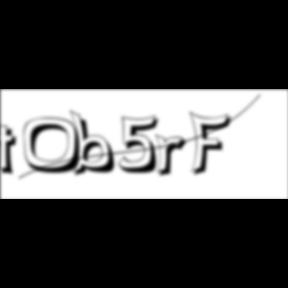5: (118, 114, 164, 176)
F: (189, 110, 237, 178)
O: (24, 117, 88, 176)
b: (70, 109, 122, 179)
r: (155, 134, 193, 180)
t: (0, 124, 24, 179)
